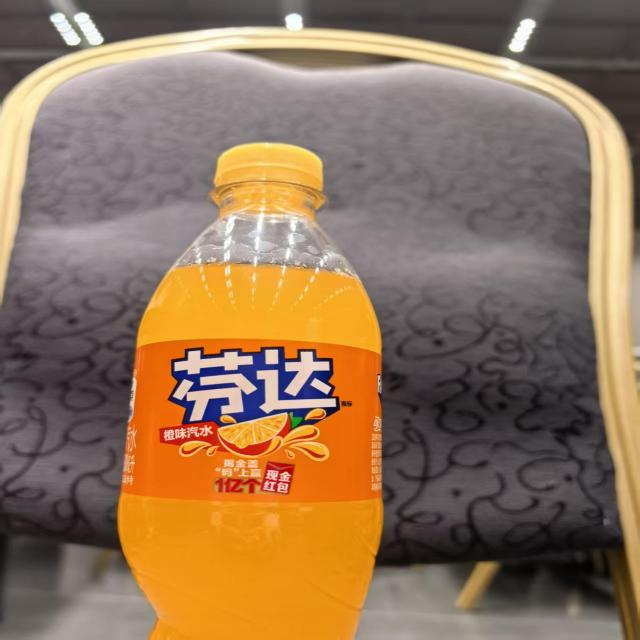orange: (158, 338, 355, 468)
